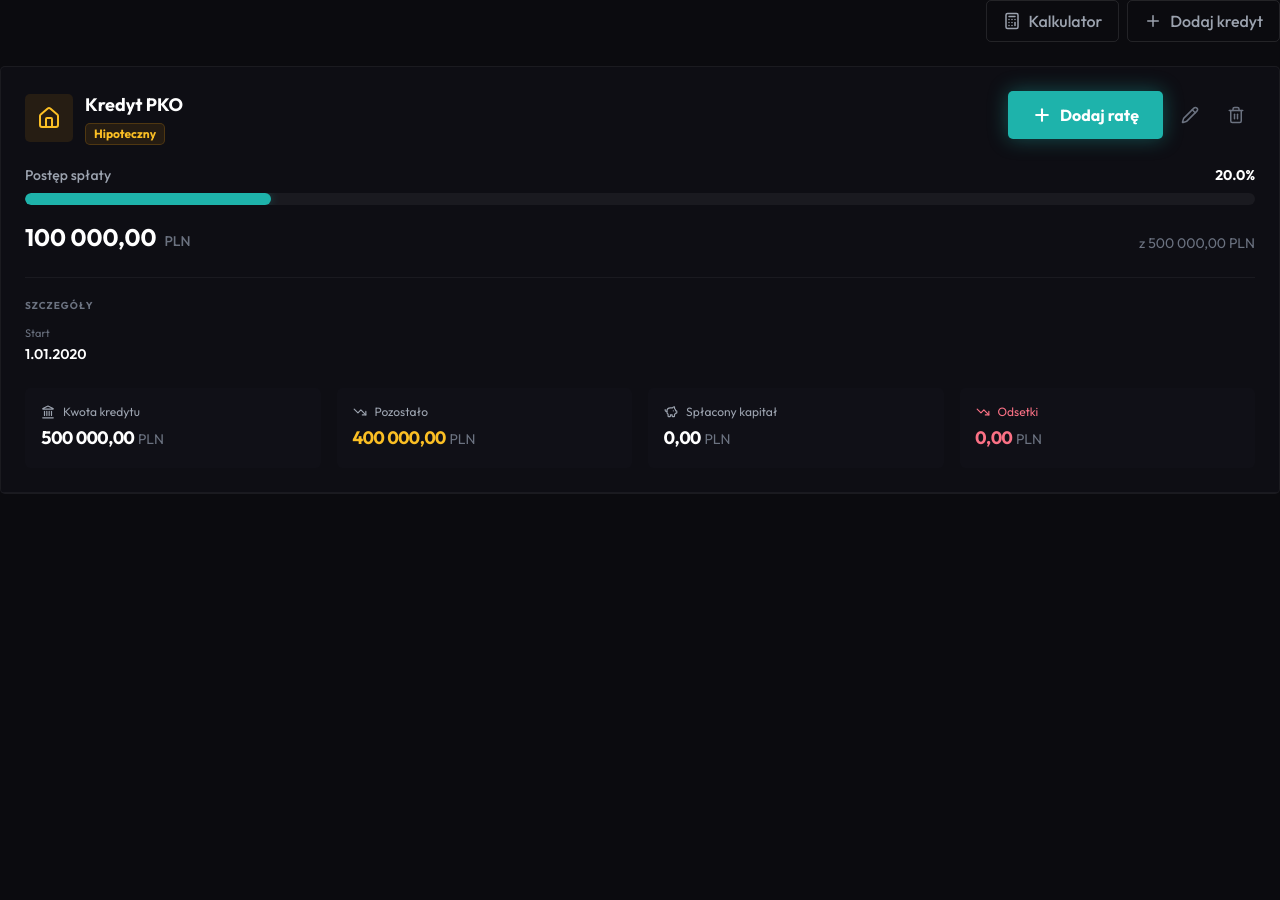
Mortgage — handleAddPayment (walidacja B7) › odpowiedź clamped → komunikat o przycięciu kapitału
This screenshot has width=1280, height=900.
Click the button "Dodaj ratę" at (1086, 115), box [1008,91,1163,139]
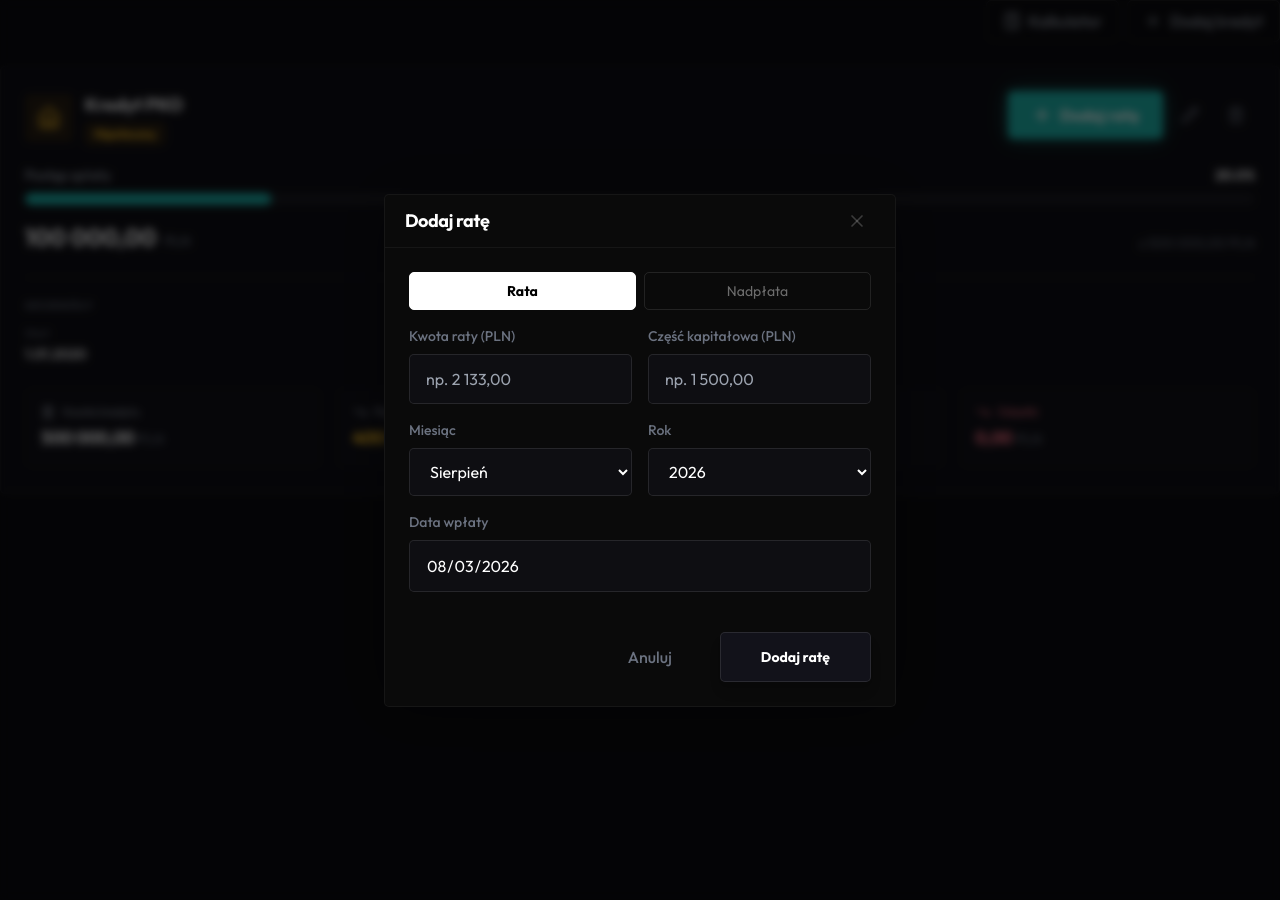
Expected: the number field with placeholder "np. 2 133,00" is shown
Type "500000" into the number field with placeholder "np. 2 133,00" at (520, 378), box [409,354,632,404]
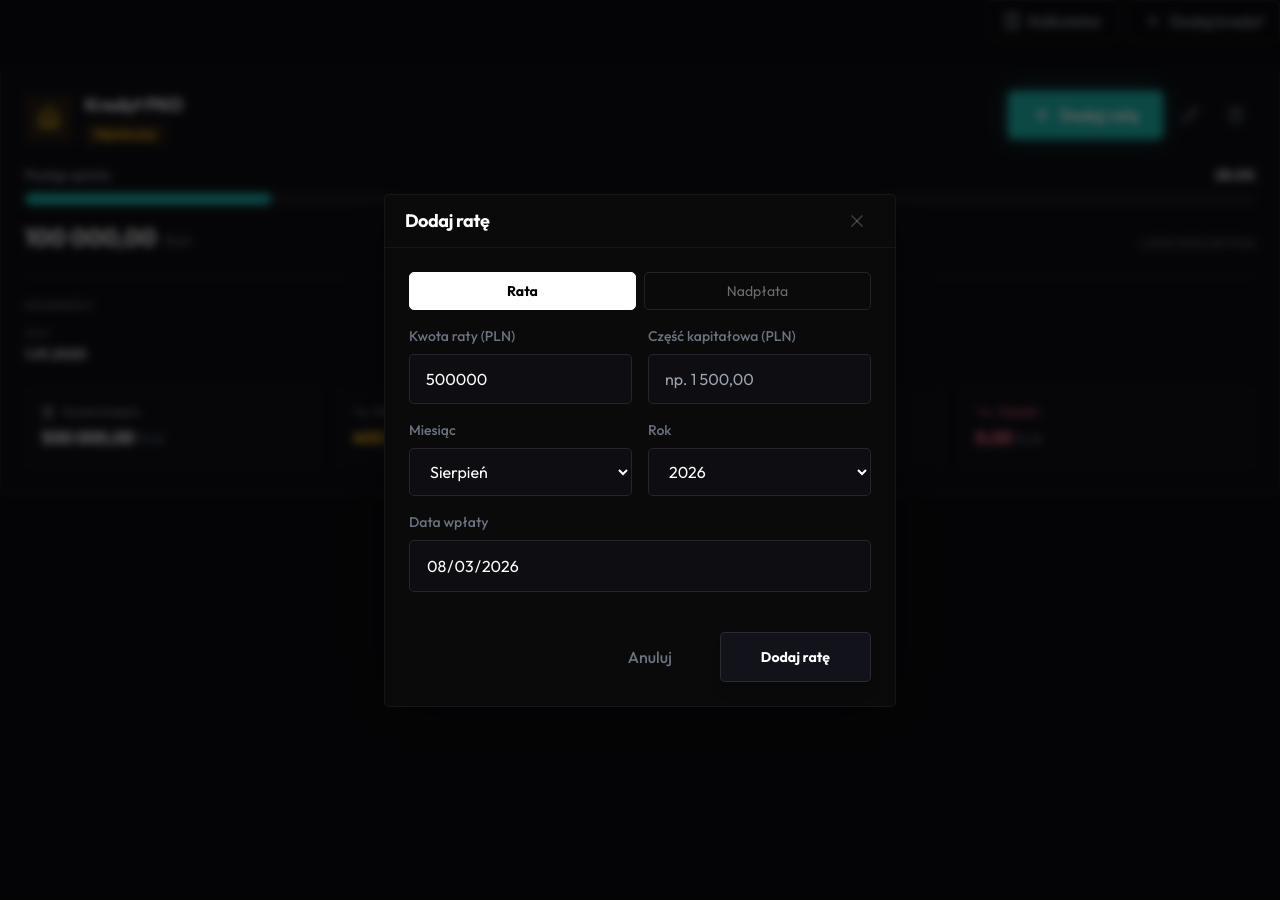
Type "450000" into the number field with placeholder "np. 1 500,00" at (760, 378), box [648,354,871,404]
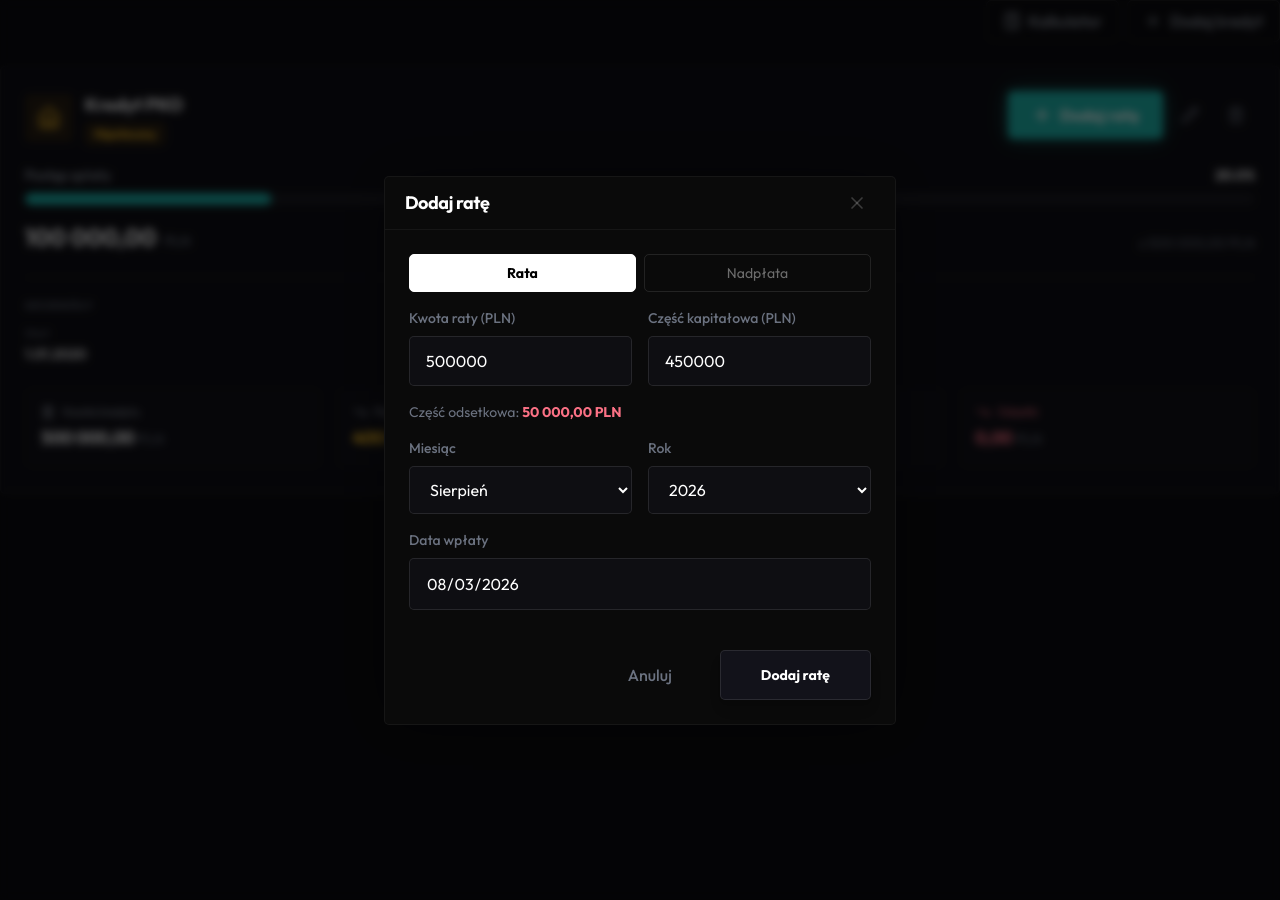
Click the button "Dodaj ratę" at (795, 674), box [720,650,871,700]
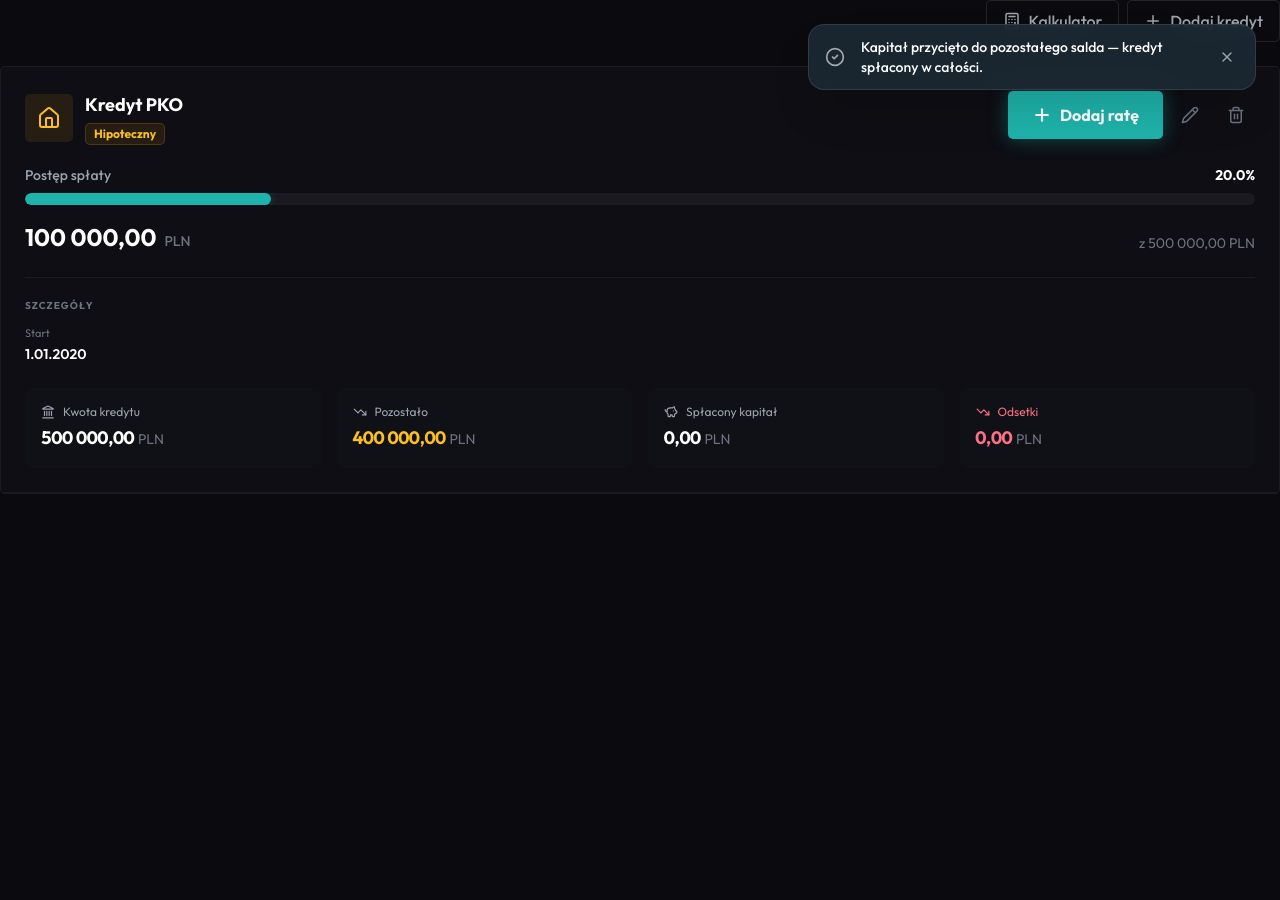
Expected: the text "Kapitał przycięto do pozostałego salda" is shown, [861,38,1162,76]
